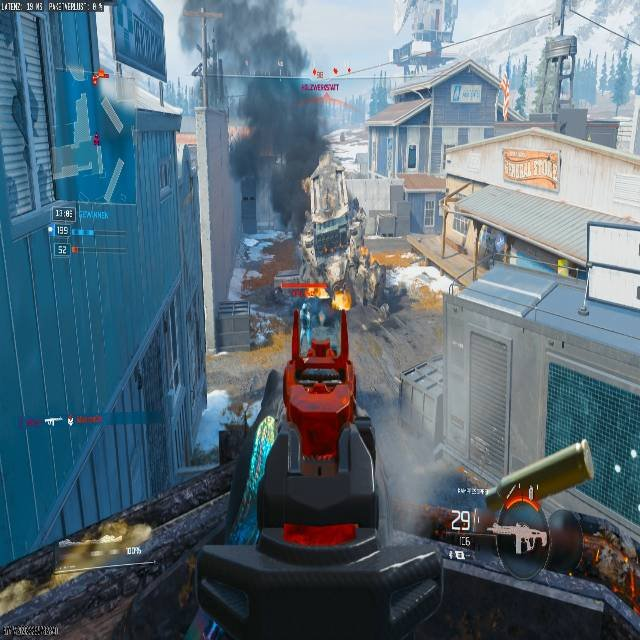player: (301, 301, 312, 328)
